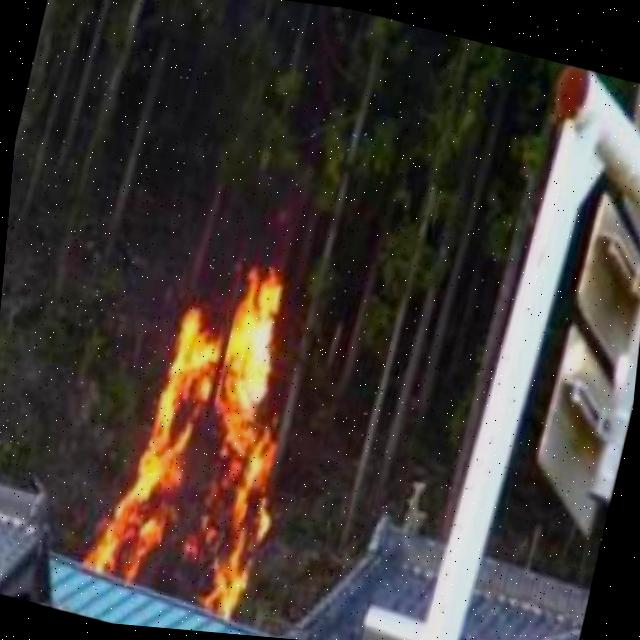fire: (82, 224, 338, 614)
